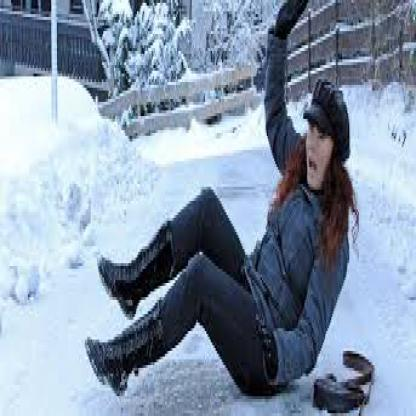Fall_Down: (84, 3, 352, 402)
